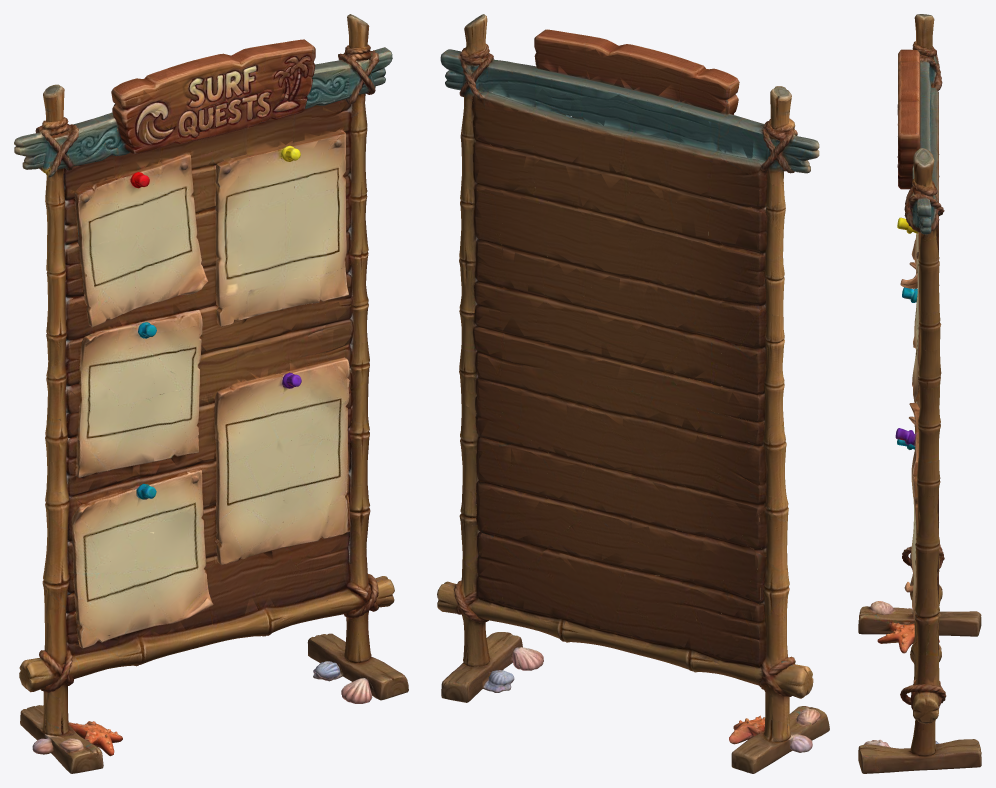
File: questboard.glb
The picture shows the model from 3 angles, left to right: view 1: azimuth 30°, elevation 25°; view 2: azimuth 150°, elevation 25°; view 3: azimuth 270°, elevation 25°; orthographic projection. The views are drawn at different scales.
Visible parts, largest first — view 1: questboard; view 2: questboard; view 3: questboard.
Part boxes in pixels (x1=…): questboard: x1=14, y1=14, x2=408, y2=773; questboard: x1=437, y1=14, x2=829, y2=773; questboard: x1=858, y1=14, x2=981, y2=773.
Size of the model in its own units: 1.13 by 1.9 by 0.3467.
1 material, 1 textured.
